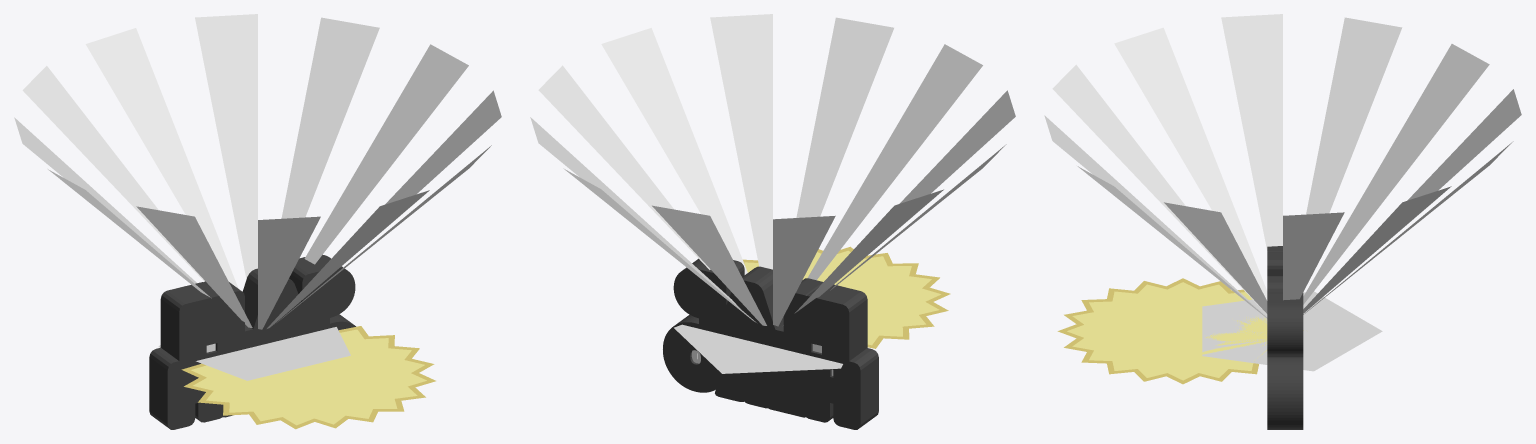
File: Title.fbx
3 views of the same model, side by side, from view 1: azimuth 30°, elevation 25°; view 2: azimuth 150°, elevation 25°; view 3: azimuth 270°, elevation 25° (orthographic). The views are drawn at different scales.
Parts seen in each view (by area): view 1: Rays, BlackOutline, Stamp, Star; view 2: Rays, BlackOutline, Stamp, Star; view 3: Rays, Stamp, Star, BlackOutline.
Part boxes in pixels (<box>): Rays: <box>14,14,501,329</box>; BlackOutline: <box>149,254,355,429</box>; Stamp: <box>181,326,435,429</box>; Star: <box>158,327,350,380</box>; Rays: <box>530,14,1015,326</box>; BlackOutline: <box>663,258,878,429</box>; Stamp: <box>743,246,950,348</box>; Star: <box>674,324,842,373</box>; Rays: <box>1044,14,1521,318</box>; Stamp: <box>1057,278,1303,384</box>; Star: <box>1202,291,1382,371</box>; BlackOutline: <box>1267,246,1303,429</box>.
Bounding box in the file's own units: 478 × 308 × 478.
